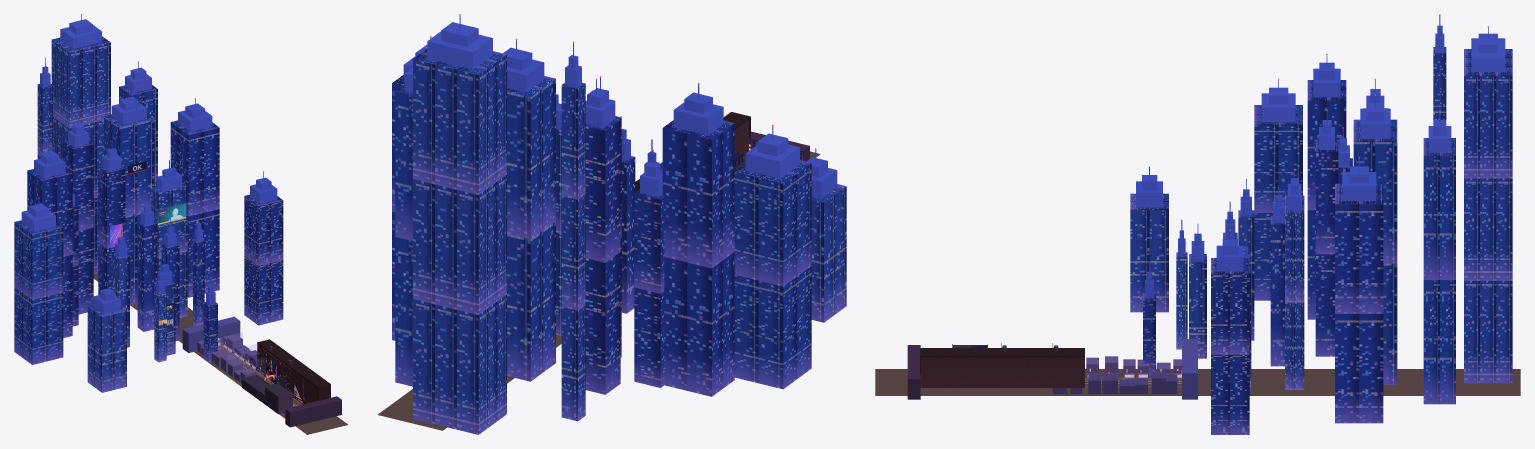
Rendered from street-1-night.glb.
The picture shows the model from 3 angles, left to right: view 1: azimuth 30°, elevation 25°; view 2: azimuth 150°, elevation 25°; view 3: azimuth 270°, elevation 25°; orthographic projection. The views are drawn at different scales.
Visible parts, largest first — view 1: object 67, object 76, object 66, object 68, object 63, object 57, object 69, object 52, object 74, object 61, object 72, object 58 (+28 smaller); view 2: object 76, object 52, object 67, object 63, object 57, object 59, object 78, object 79, object 69, object 53, object 60, object 58 (+8 smaller); view 3: object 76, object 66, object 79, object 9, object 68, object 67, object 211, object 63, object 74, object 69, object 72, object 52 (+17 smaller).
Part boxes in pixels (x1,y1,x2,y2): object 67: (14,220,63,364); object 76: (51,36,110,273); object 66: (170,120,219,297); object 68: (244,194,283,325); object 63: (104,114,154,305); object 57: (63,141,93,314); object 69: (87,305,126,392); object 52: (27,169,72,337); object 74: (98,165,125,294); object 61: (137,222,157,331); object 72: (151,182,187,317); object 58: (68,91,212,147); object 76: (413,49,506,434); object 52: (662,120,734,396); object 67: (734,160,811,389); object 63: (507,76,555,381); object 57: (585,118,620,394); object 59: (561,82,585,421); object 78: (634,189,664,387); object 79: (395,84,412,386); object 69: (811,184,846,322); object 53: (673,84,837,198); object 60: (404,43,799,178); object 58: (403,37,613,127); object 76: (1464,49,1512,383); object 66: (1335,183,1383,423); object 79: (1423,138,1455,404); object 9: (875,369,1520,395); object 68: (1211,258,1249,434); object 67: (1254,105,1302,300); object 211: (920,357,1084,387); object 63: (1353,119,1397,384); object 74: (1315,139,1338,356); object 69: (1130,193,1168,312); object 72: (1285,195,1304,389); object 52: (1307,80,1346,319).
Size of the model in its own units: 227 by 237 by 400.
Materials: 293 (130 with a texture image).
